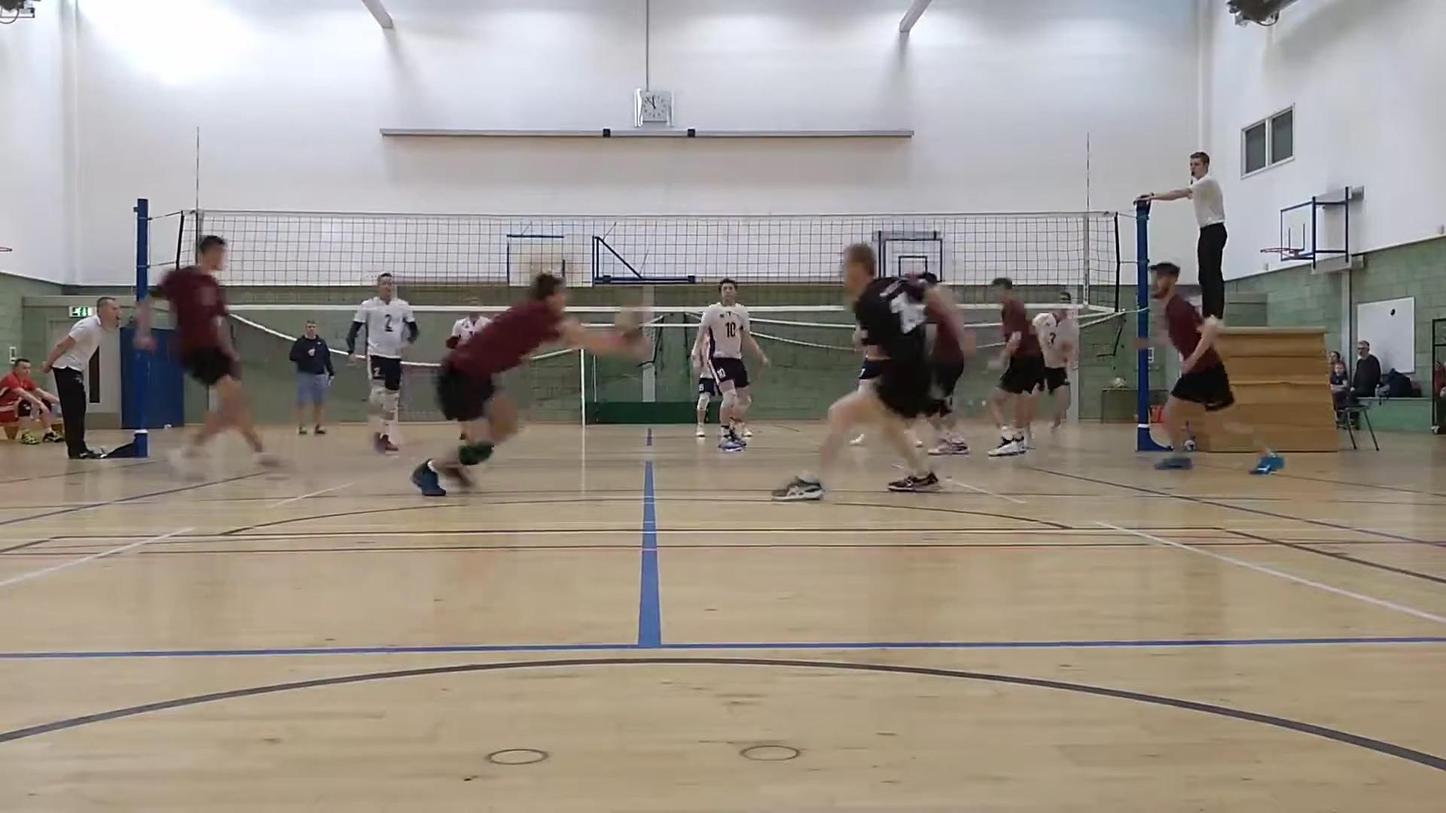Dig: (410, 264, 665, 499)
Player: (773, 244, 963, 501), (150, 236, 278, 477), (1151, 262, 1283, 473), (346, 273, 419, 452), (693, 279, 769, 450), (989, 278, 1044, 456), (926, 303, 973, 455), (1033, 291, 1078, 428), (690, 343, 719, 436), (853, 327, 885, 388), (445, 311, 487, 349)
